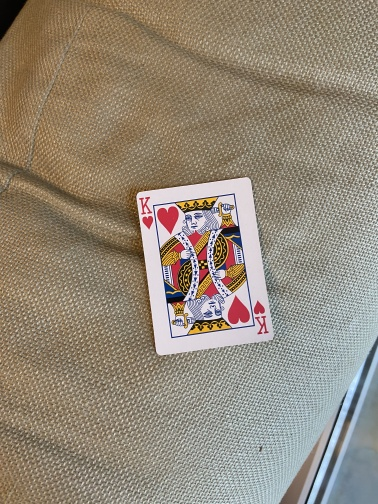king: (135, 176, 275, 357)
